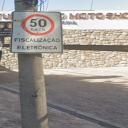speed_limit_50: (21, 14, 56, 36)
